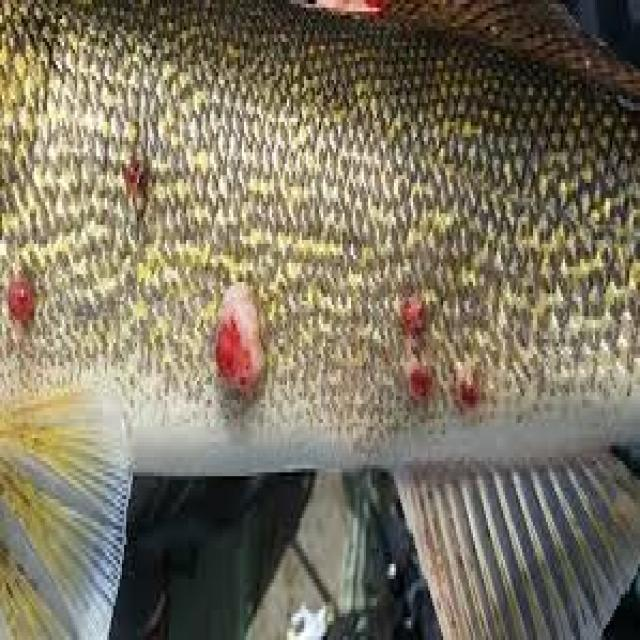EUS Disease: (4, 1, 640, 640), (2, 142, 520, 433)
